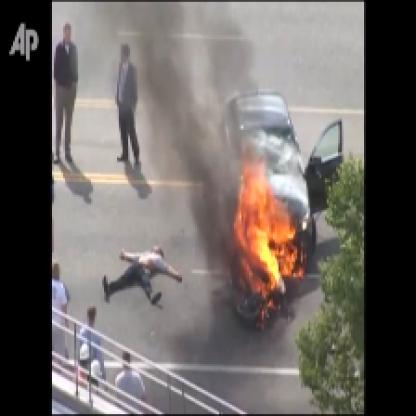Fire: (228, 132, 306, 319)
Smoke: (136, 2, 238, 277)
